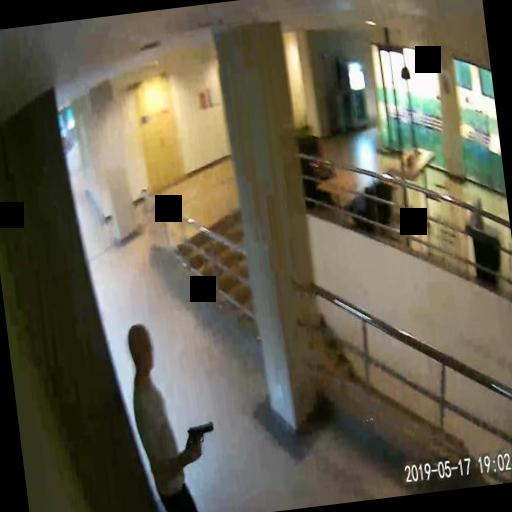Handgun: (185, 420, 216, 456)
